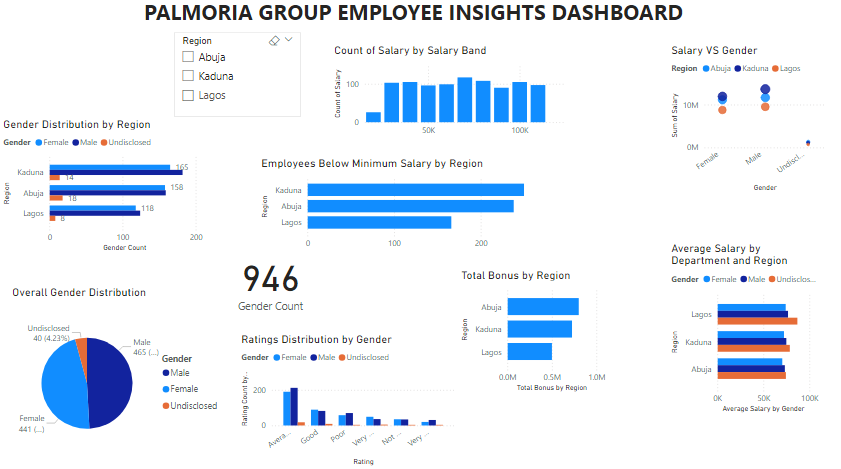

The dashboard page shown, as its layout file describes it:
{"tool":"powerbi","page":{"name":"Page 1","canvas":[1280,720],"ordinal":0},"visuals":[{"type":"clusteredBarChart","title":"Gender Distribution by Region ","fields":{"Category":["Palmoria Group emp-data.Region"],"Series":["Palmoria Group emp-data.Gender"],"Y":["Palmoria Group emp-data.Gender Count"]},"box":[0,133.5,318.5,209.3],"z":0},{"type":"pieChart","title":"Overall Gender Distribution","fields":{"Category":["Palmoria Group emp-data.Gender"],"Y":["Palmoria Group emp-data.Gender Count"]},"box":[0,441.3,330.6,279.1],"z":1000},{"type":"slicer","fields":{"Values":["Palmoria Group emp-data.Region"]},"box":[703.7,95.5,250.2,171.4],"z":2000},{"type":"card","fields":{"Values":["Palmoria Group emp-data.Gender Count"]},"box":[653.6,238.1,250.2,171.4],"z":3000},{"type":"clusteredColumnChart","title":"Ratings Distribution by Gender","fields":{"Y":["Merge1.Rating Count by Gender"],"Category":["Palmoria Group emp-data.Rating"],"Series":["Palmoria Group emp-data.Gender"]},"box":[691.6,435.3,359.4,285.1],"z":4000},{"type":"scatterChart","title":"Salary VS Gender","fields":{"Y":["Sum(Palmoria Group emp-data.Salary)"],"X":["Palmoria Group emp-data.Gender"],"Series":["Palmoria Group emp-data.Region"],"Size":["Sum(Palmoria Group emp-data.Salary)"]},"box":[953.9,168.3,326.1,174.4],"z":5000},{"type":"clusteredBarChart","title":"Average Salary by Department and Region","fields":{"Category":["Palmoria Group emp-data.Region","Palmoria Group emp-data.Department"],"Series":["Palmoria Group emp-data.Gender"],"Y":["Palmoria Group emp-data.Average Salary by Gender"]},"box":[1051,394.3,229,326.1],"z":6000},{"type":"clusteredColumnChart","fields":{"Category":["Palmoria Group emp-data.Salary Band"],"Y":["CountNonNull(Palmoria Group emp-data.Salary)"]},"box":[318.5,95.5,360.9,150.1],"z":6001},{"type":"clusteredBarChart","fields":{"Y":["Merge1.Employees Below Minimum Salary"],"Category":["Palmoria Group emp-data.Region"]},"box":[330.6,283.6,360.9,150.1],"z":6002},{"type":"clusteredBarChart","title":"Total Bonus by Region ","fields":{"Y":["Palmoria Group emp-data.Total Bonus by Region"],"Category":["Palmoria Group emp-data.Region"]},"box":[331,441,361,279],"z":6003},{"type":"textbox","box":[136.5,0,981.2,57.6],"z":6004}]}

Visuals, with their boxes in screenshot pixels (x1, y1, x2, y2), scaled from the page's 1280x720 canvas onto the 841x469 screenshot:
"Gender Distribution by Region " clusteredBarChart: select_region(0, 87, 209, 223)
"Overall Gender Distribution" pieChart: select_region(0, 287, 217, 468)
slicer - Palmoria Group emp-data.Region: select_region(462, 62, 627, 174)
card - Palmoria Group emp-data.Gender Count: select_region(429, 155, 594, 267)
"Ratings Distribution by Gender" clusteredColumnChart: select_region(454, 284, 691, 468)
"Salary VS Gender" scatterChart: select_region(627, 110, 840, 223)
"Average Salary by Department and Region" clusteredBarChart: select_region(691, 257, 840, 468)
clusteredColumnChart - Palmoria Group emp-data.Salary Band x CountNonNull(Palmoria Group emp-data.Salary): select_region(209, 62, 446, 160)
clusteredBarChart - Merge1.Employees Below Minimum Salary x Palmoria Group emp-data.Region: select_region(217, 185, 454, 283)
"Total Bonus by Region " clusteredBarChart: select_region(217, 287, 455, 468)
textbox: select_region(90, 0, 734, 38)
